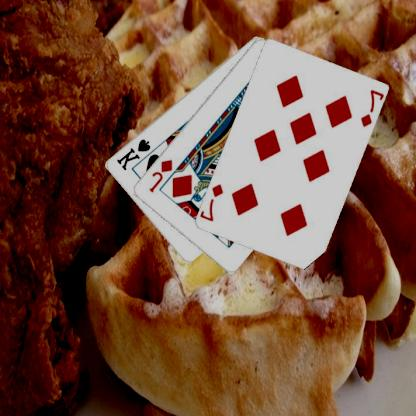7D: (201, 181, 226, 223), (360, 87, 384, 129)
JD: (148, 157, 176, 194)
KS: (115, 136, 154, 172)
